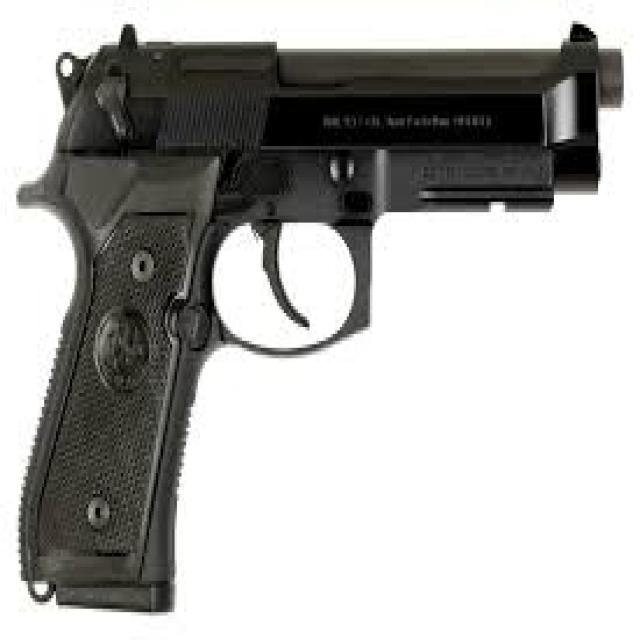pistol: (9, 16, 640, 635)
